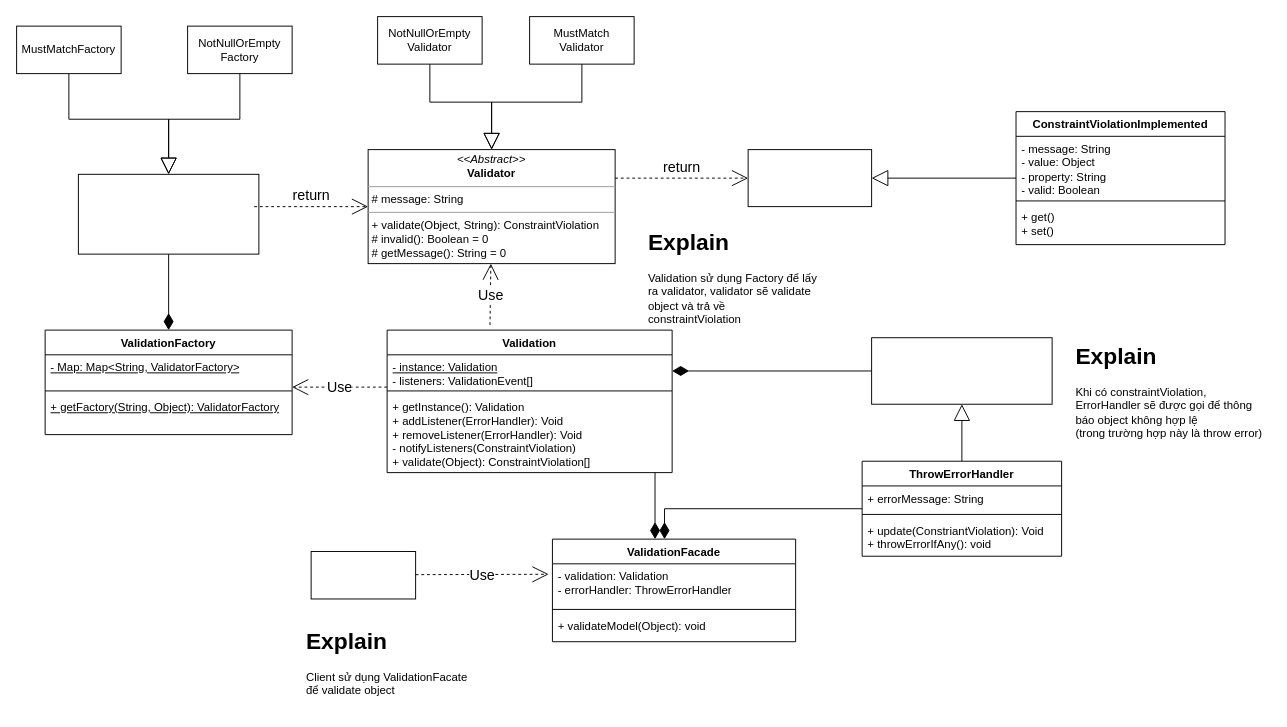
The diagram is 1287 pixels wide and 727 high, and some of its shapes have lost their labels. Here are the shapes that lost their labels. From the top down, the centre of each, then its label:
pixel 809 178: «interface» ConstraintViolation
pixel 168 213: <<Abstract>> ValidatorFactory + create(Object): Validator
pixel 961 370: <<Interface>> ErrorHandler + update(ConstraintViolation)
pixel 363 575: Client
